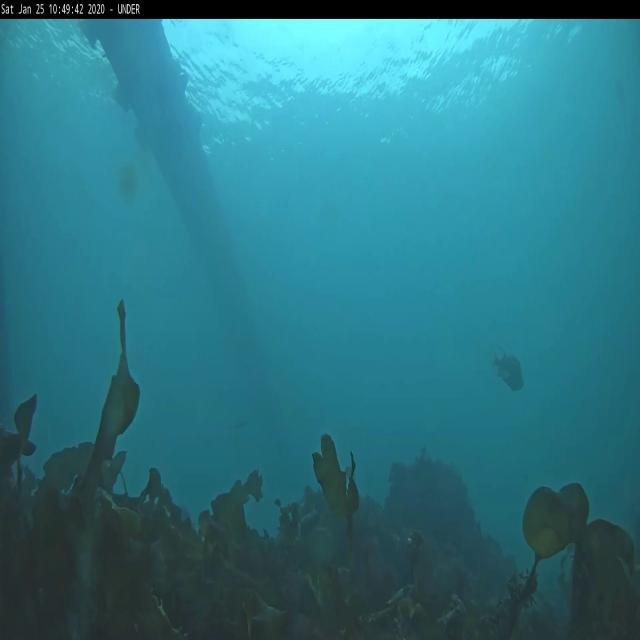fish: (490, 353, 523, 390)
